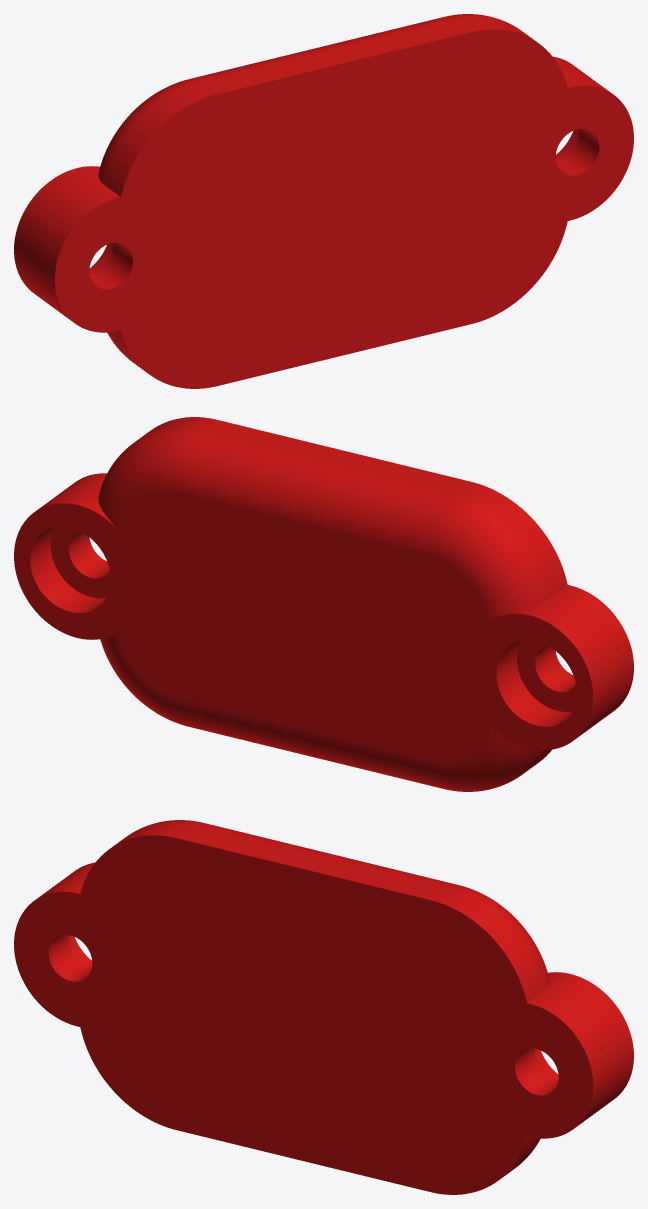
File: Tapa TBB.dae
3 renders of one model, top to bottom at view 1: azimuth 30°, elevation 25°; view 2: azimuth 150°, elevation 25°; view 3: azimuth 330°, elevation 25°, orthographic.
Visible parts, largest first — view 1: Tapa_TBB; view 2: Tapa_TBB; view 3: Tapa_TBB.
Part boxes in pixels (<box>): Tapa_TBB: <box>14,14,633,388</box>; Tapa_TBB: <box>14,417,633,791</box>; Tapa_TBB: <box>14,820,633,1194</box>.
Size of the model in its own units: 40.99 by 5 by 19.75.
